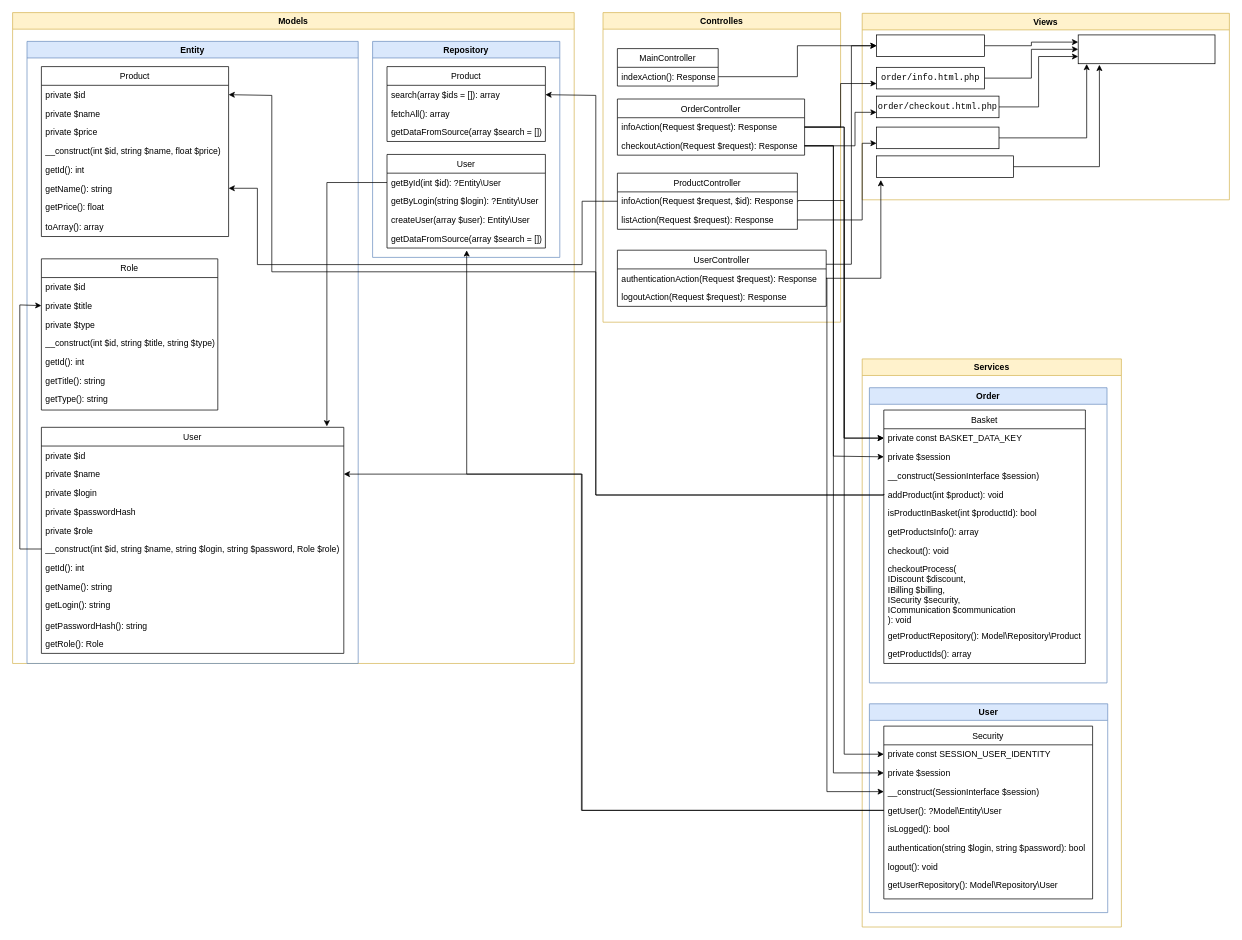
The diagram is 1242 pixels wide and 940 high, and some of its shapes have lost their labels. Each missing label, with the centre of its shape:
"main/index.html.php" goes at pixel 930 45.
"main_template.html.php" goes at pixel 1146 49.
"product/info.html.php" goes at pixel 937 137.
"user/authentication.html.php" goes at pixel 944 166.
